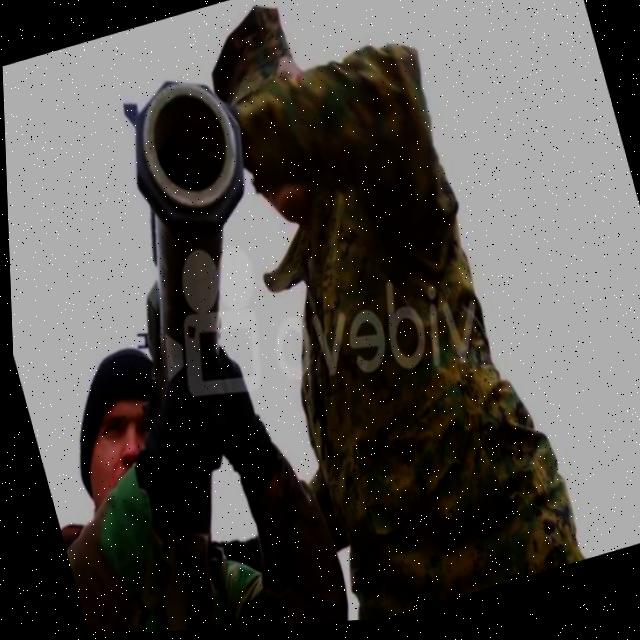rocket: (69, 52, 312, 414)
